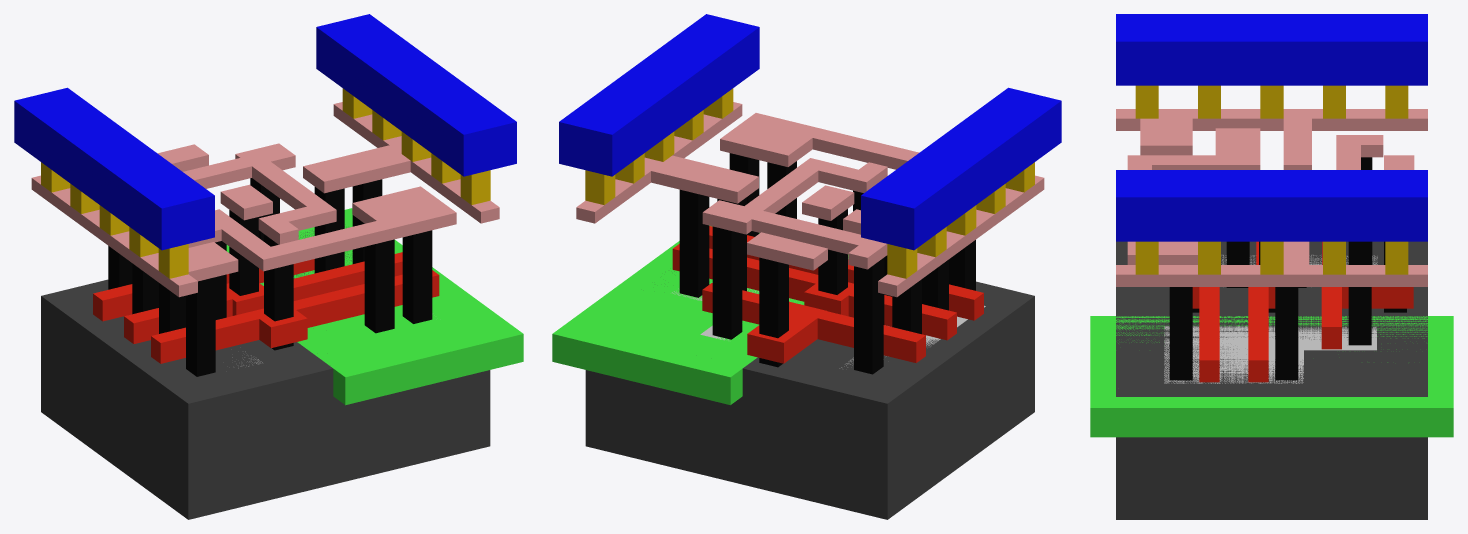
The model's file is sky130_fd_sc_hd__nor2b_1.obj.
The picture shows the model from 3 angles, left to right: view 1: azimuth 30°, elevation 25°; view 2: azimuth 150°, elevation 25°; view 3: azimuth 270°, elevation 25°; orthographic projection. The views are drawn at different scales.
Visible parts, largest first — view 1: subs, metal1, li, licon, nwell, poly, mcon; view 2: subs, metal1, li, licon, nwell, poly, mcon; view 3: subs, metal1, nwell, li, mcon, licon, poly, tap.
Boxes of the visible parts, x1,y1,x2,y2 form: subs: (41,227,490,519); metal1: (14,14,516,250); li: (31,102,499,297); licon: (108,178,432,376); nwell: (226,208,523,405); poly: (93,252,439,363); mcon: (41,88,490,278); subs: (585,271,1034,519); metal1: (559,14,1061,250); li: (576,102,1044,297); licon: (679,153,975,374); nwell: (552,225,848,405); poly: (672,226,983,363); mcon: (585,88,1034,278); subs: (1116,241,1427,519); metal1: (1116,14,1427,241); nwell: (1090,316,1453,437); li: (1116,109,1427,286); mcon: (1135,85,1408,274); licon: (1169,157,1406,380); poly: (1192,241,1413,382); tap: (1164,326,1376,383).
Size of the model in its own units: 3.2 by 2.74 by 2.68.
